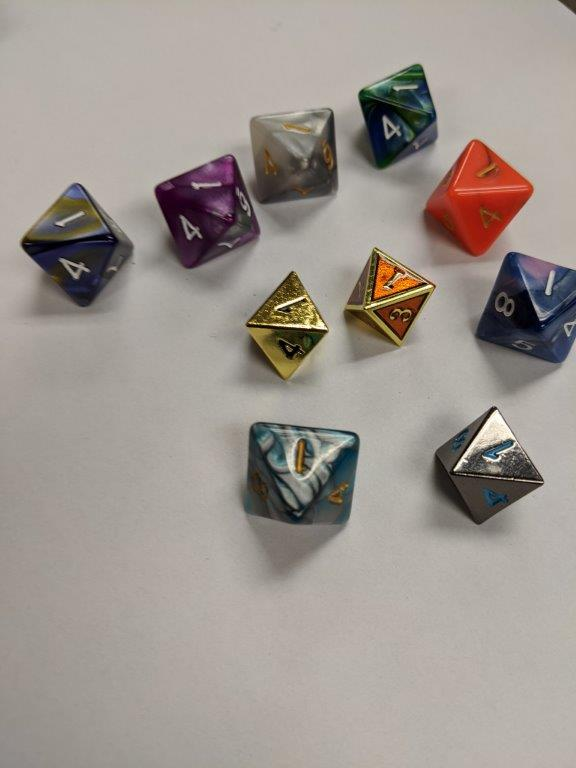d8-1: (20, 179, 136, 307), (436, 407, 546, 528), (422, 139, 533, 256), (244, 422, 363, 531), (154, 154, 262, 270), (471, 250, 576, 364), (247, 267, 330, 382), (346, 245, 435, 349), (249, 108, 339, 202), (361, 63, 438, 170)
